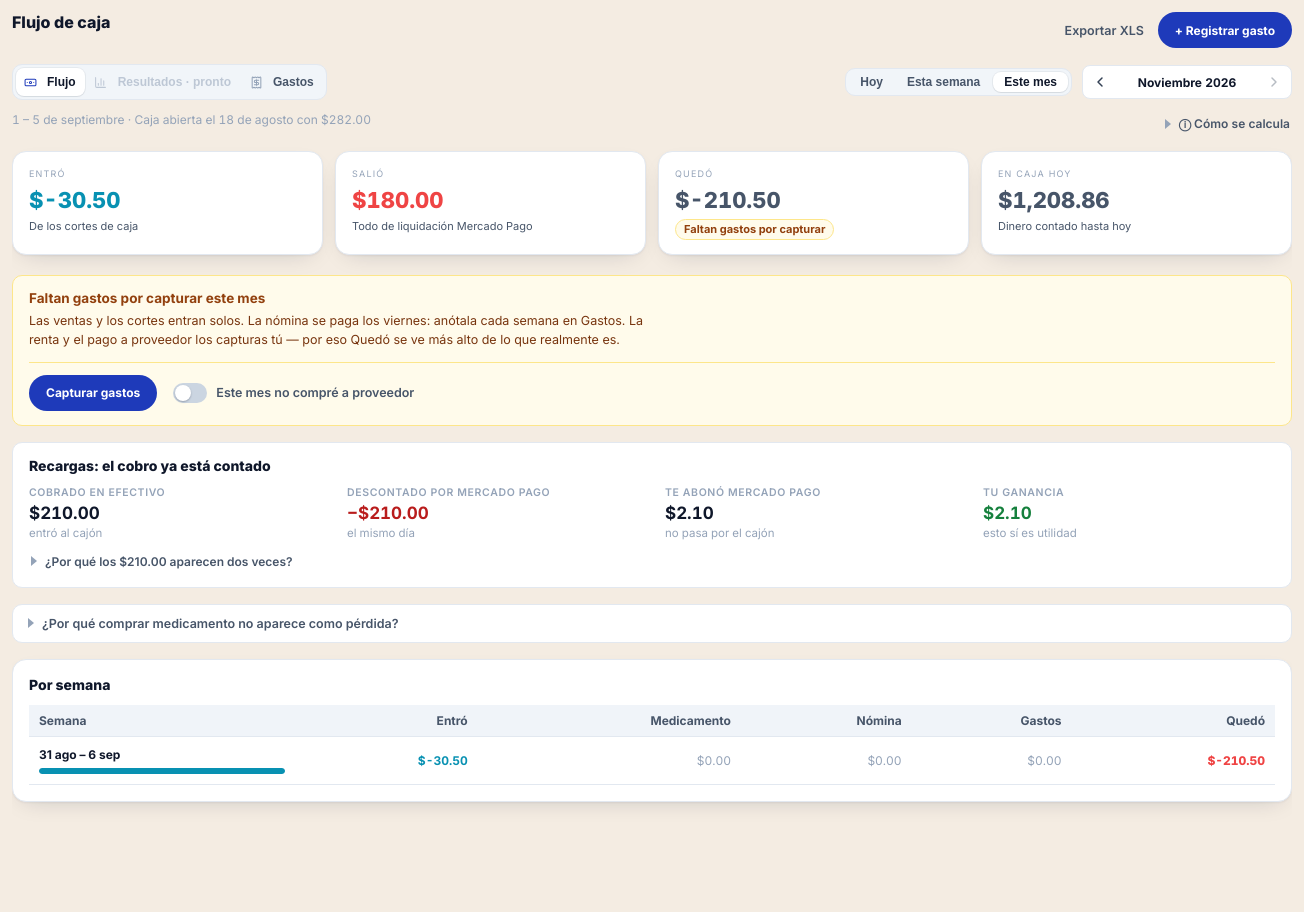
Test: un gasto a mano se puede corregir: categoría, concepto y monto
Click the tab "Gastos". click: (282, 82)
box: [242,68,323,96]
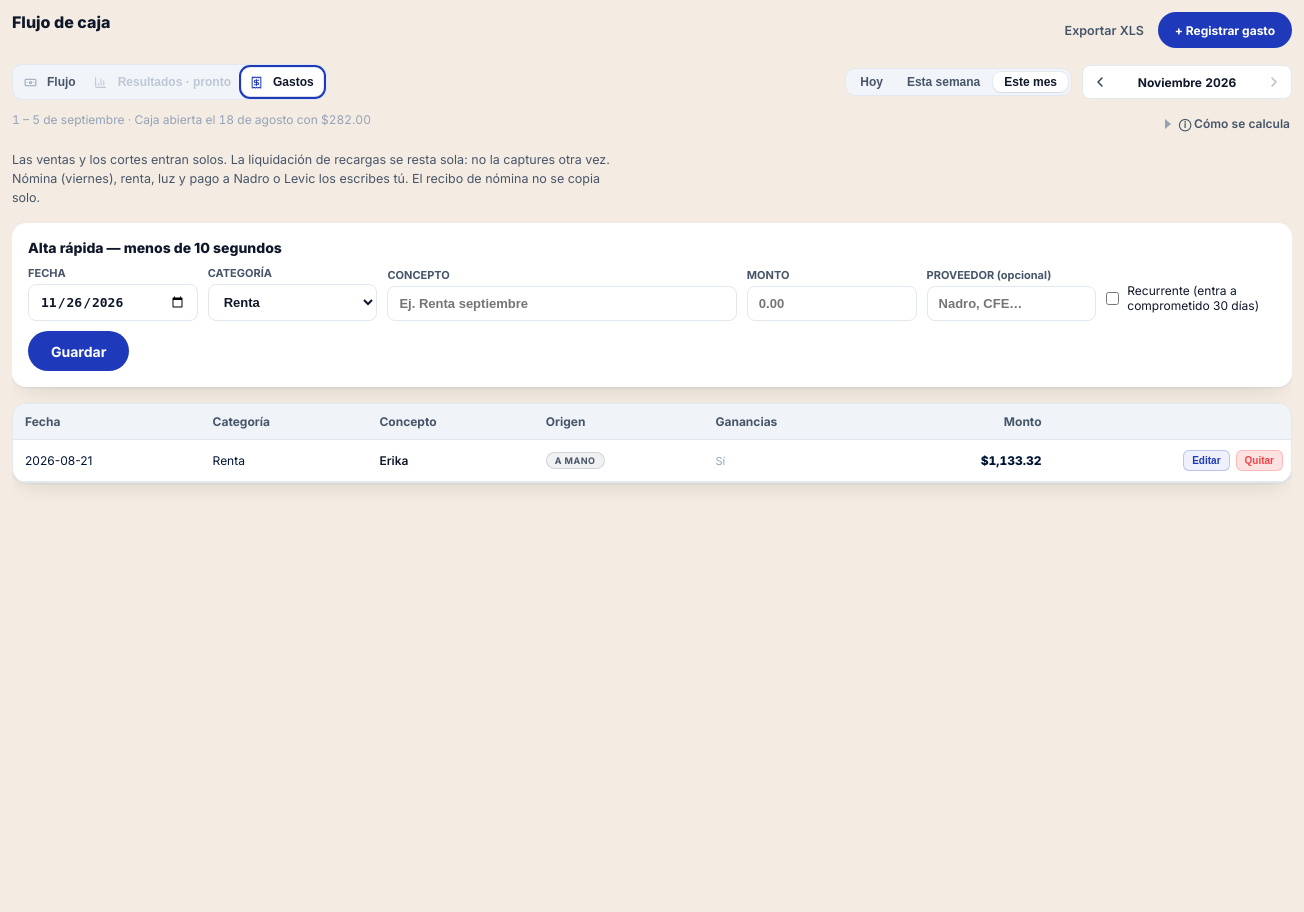
Click the button with aria-label "Editar Erika". click: (1206, 461)
box: [1183,450,1230,471]
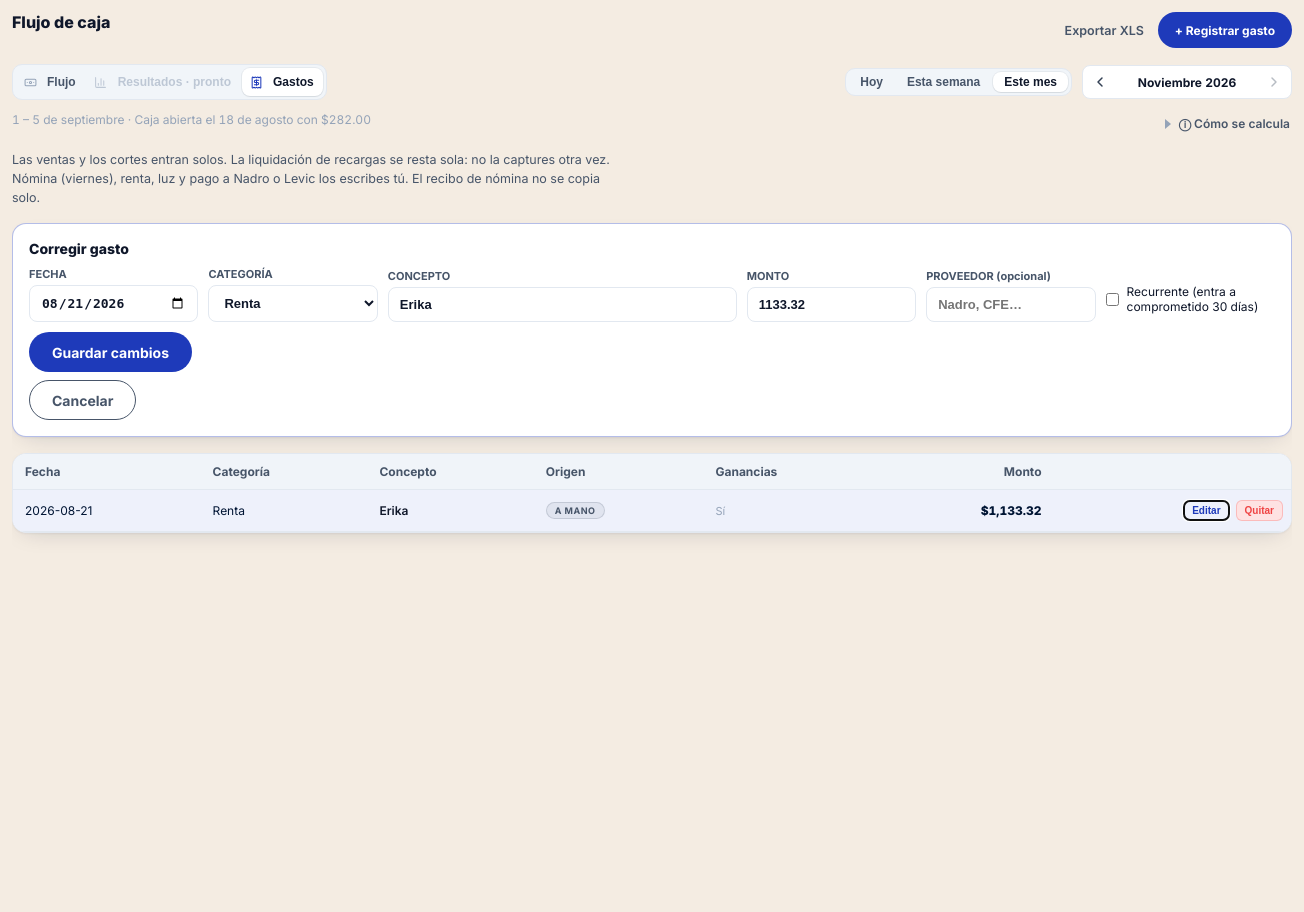
Now the text "Corregir gasto" is shown, box [29,240,129,257]
Now the field showing "Erika" is shown, box [388,287,737,322]
Now the number field showing "1133.32" is shown, box [747,287,916,322]
Select "Nómina" in the dropdown showing "Renta". click: (293, 304)
box: [208,285,378,322]
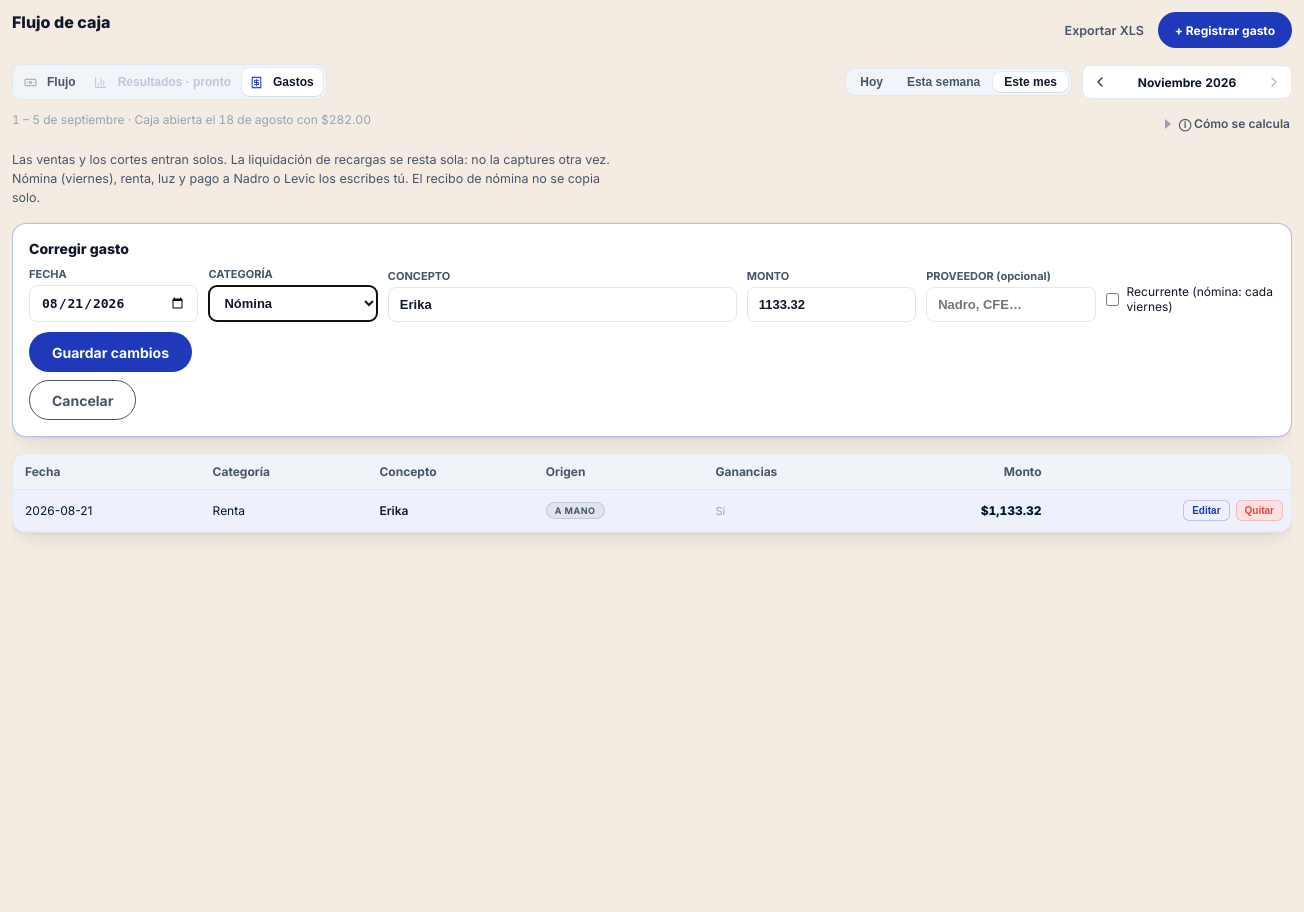
Click the button "Guardar cambios". click: (110, 352)
box: [29,332,192,372]
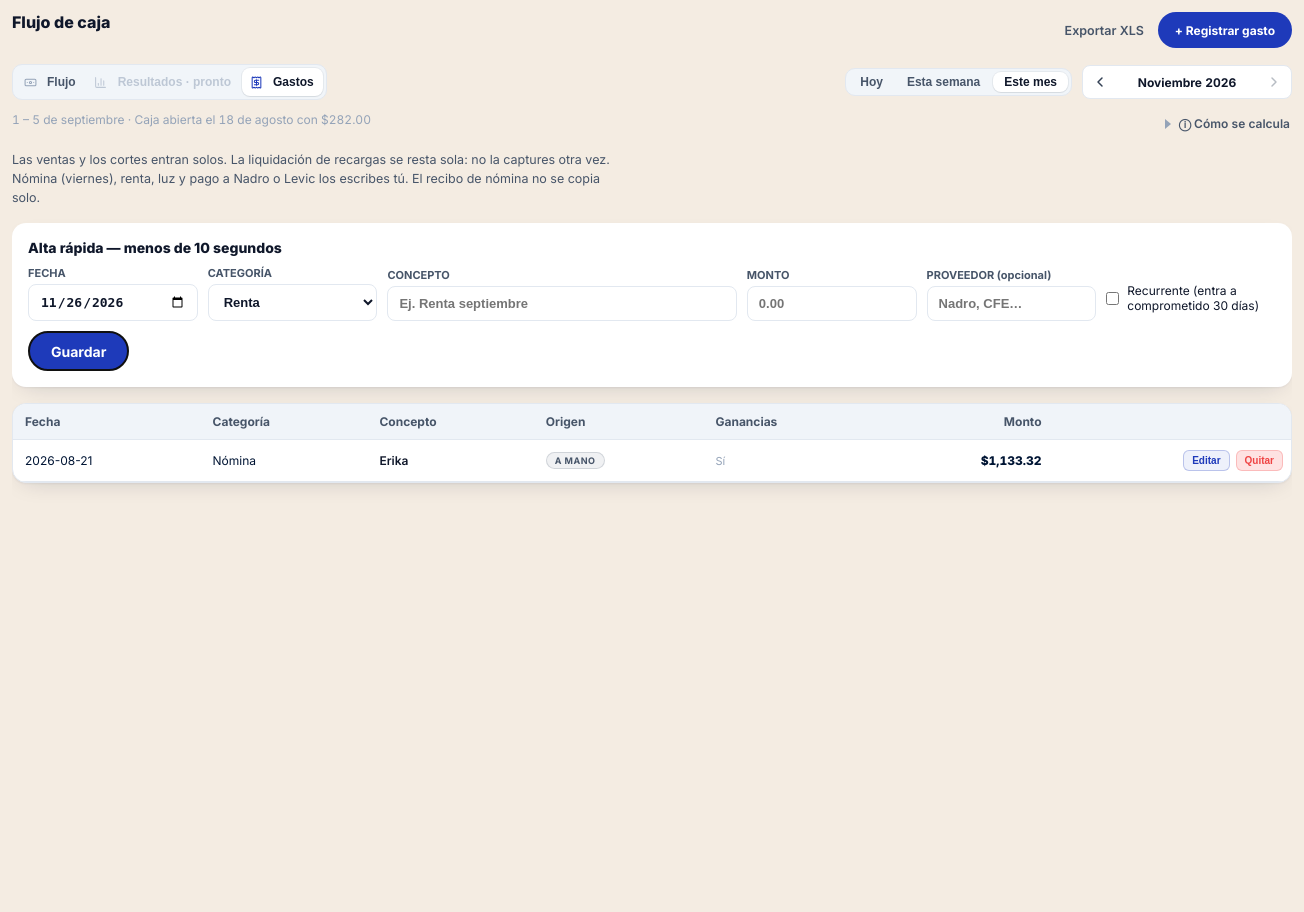
Now the text "Corregir gasto" is gone
Now the cell "Nómina" is shown, box [201,440,367,482]
